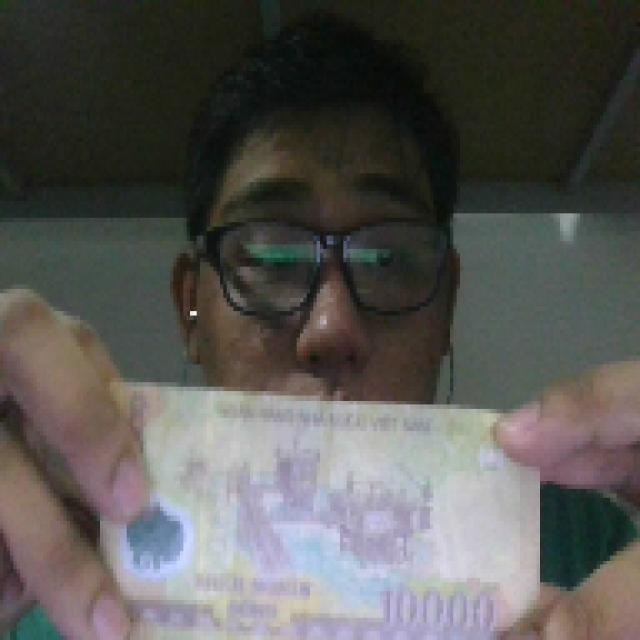10 000 VND: (93, 374, 547, 636)
